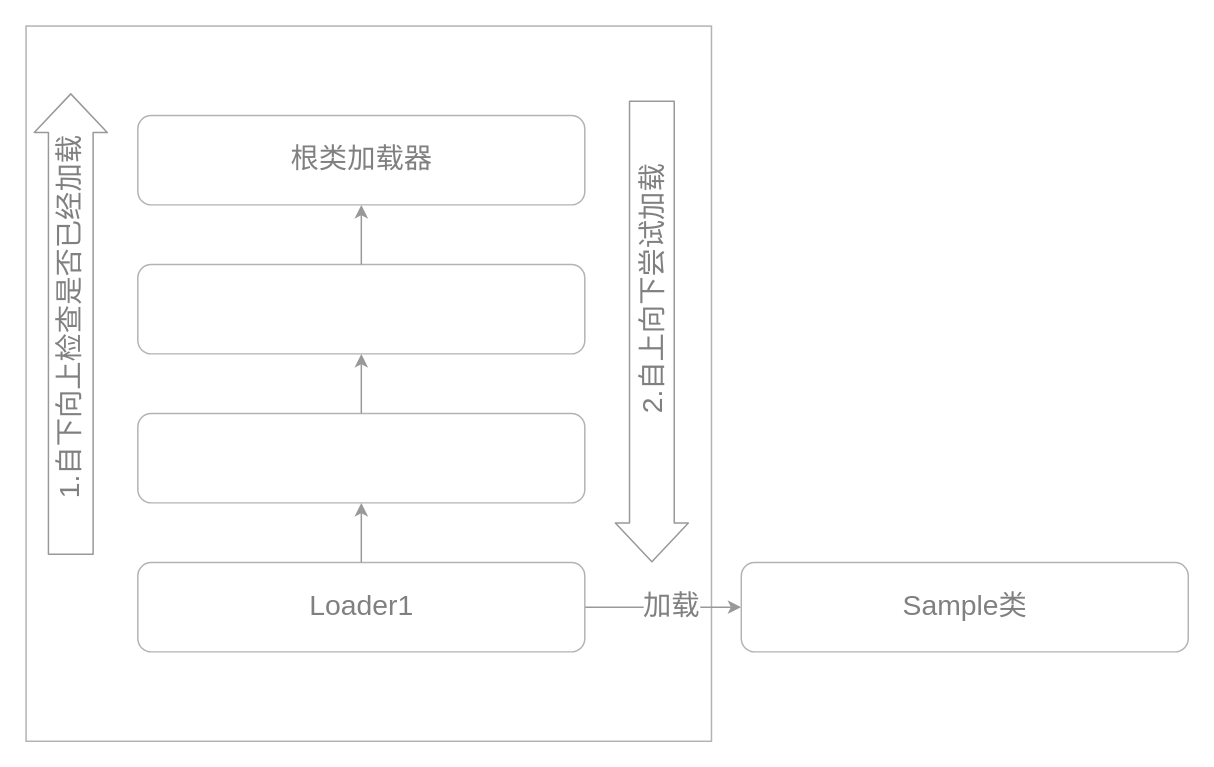
This 1214x767 diagram has some shape labels left out. The shapes that lost their labels are listed below. From the top down, each one's centre as x and y in pixels, then its label:
(360,308): 扩展类加载器
(360,457): 系统类加载器
